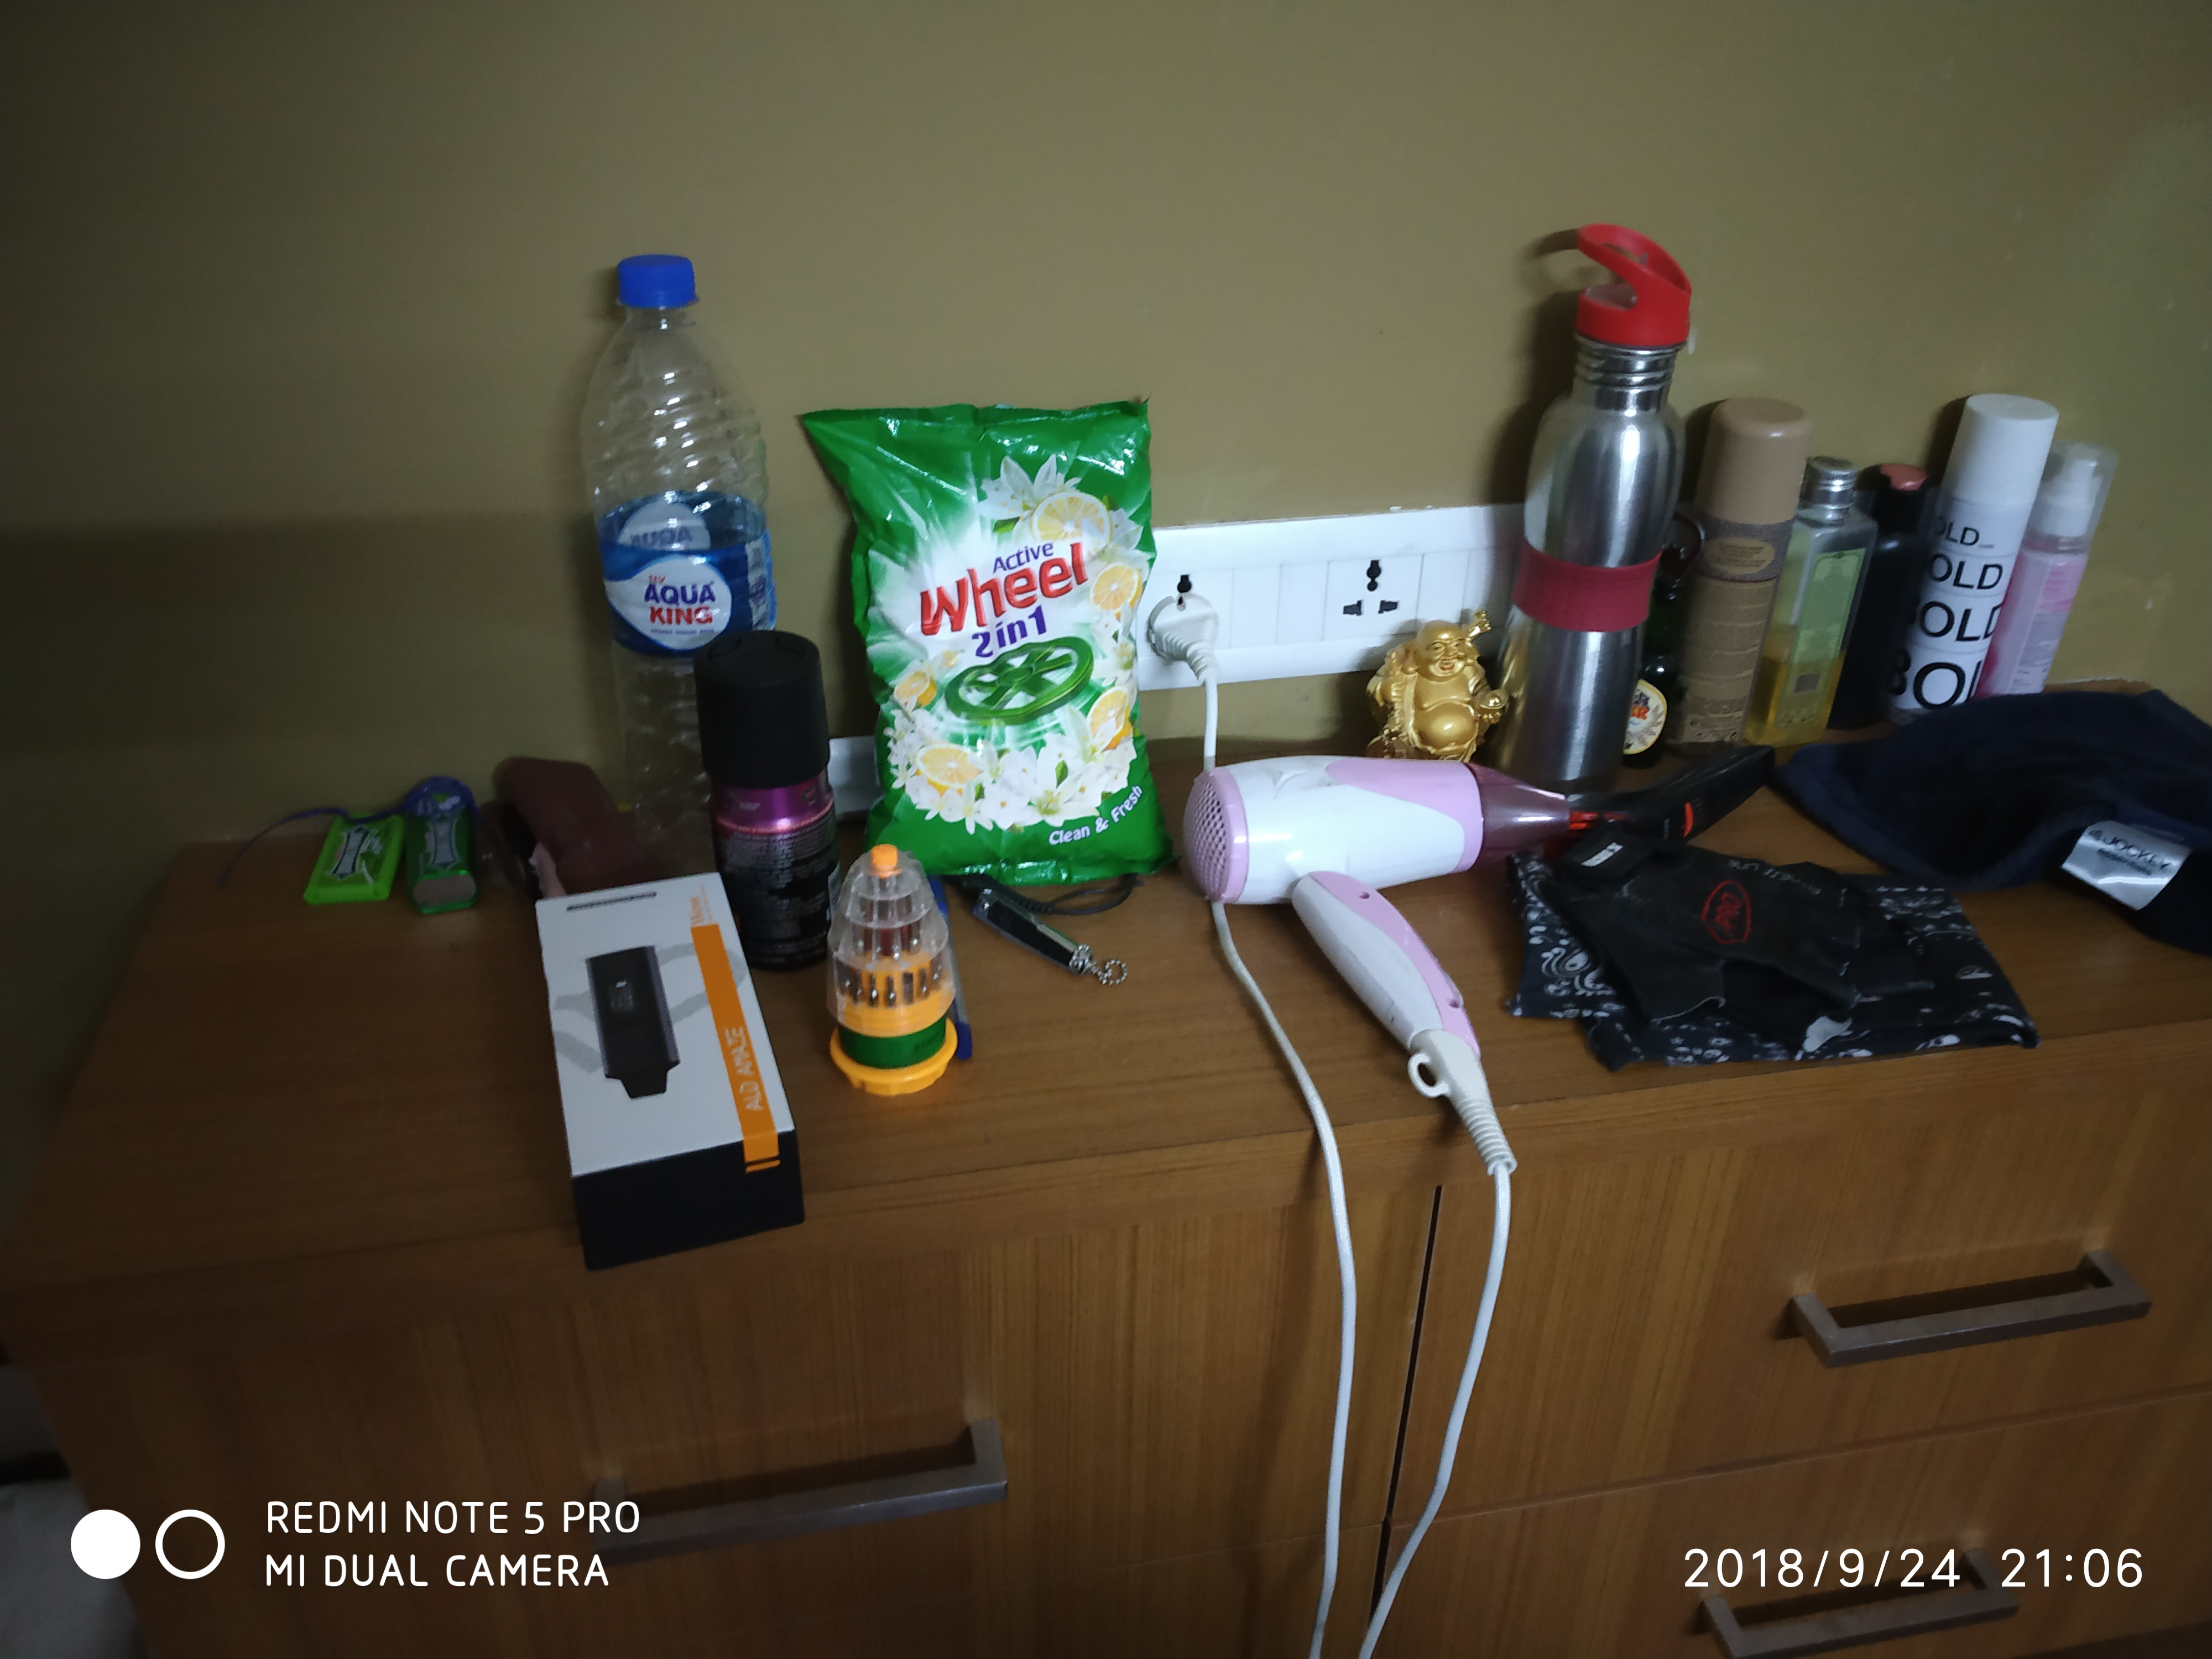detergent: (827, 383, 1170, 895)
